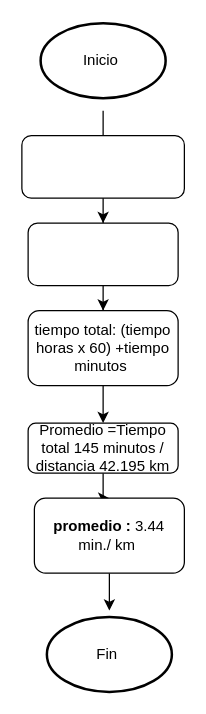
The diagram is 206 pixels wide and 714 high, and some of its shapes have lost their labels. The shapes that lost their labels are listed below. From the top down, each one's centre as x and y in pixels, then its label:
(102,166): definir distancia, tiempo horas, tiempo minutos, tiempo total, promedio
(102,254): distancia: 42.195 km tiempo horas: 2 tiempo minutos: 25
